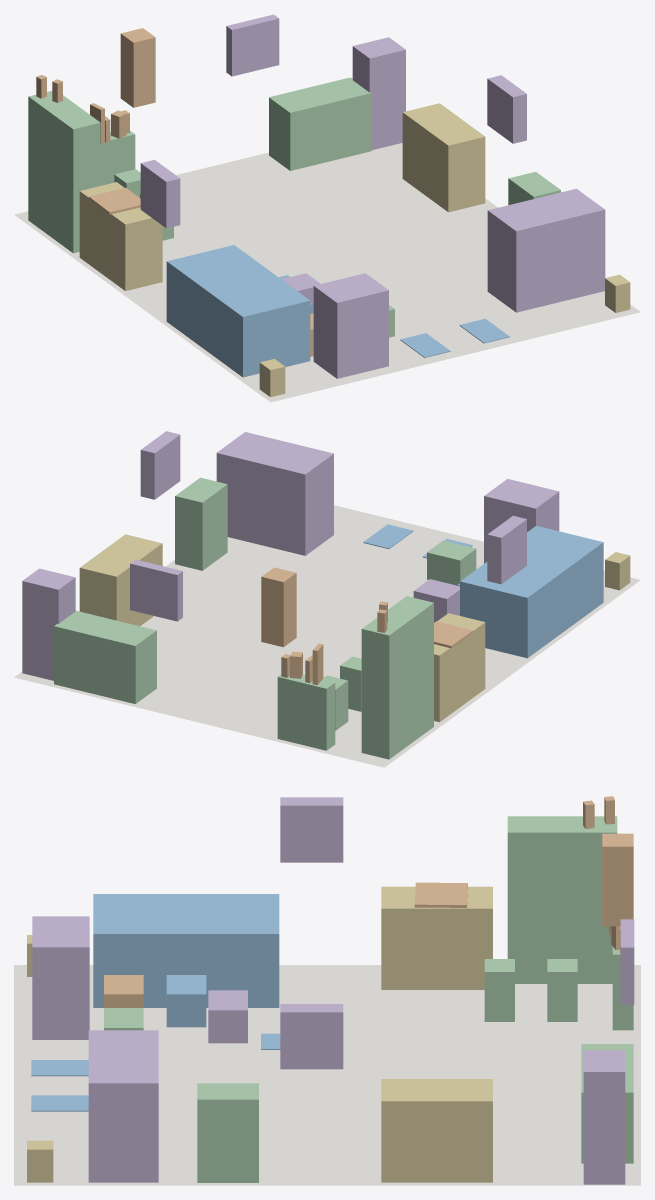
File: layout.glb
3 renders of one model, top to bottom at view 1: azimuth 30°, elevation 25°; view 2: azimuth 150°, elevation 25°; view 3: azimuth 270°, elevation 25°, orthographic. The views are drawn at different scales.
Visible parts, largest first — view 1: room_extent_proxy, obj_0003, obj_0001, obj_0007, obj_0000, obj_0006, obj_0020, obj_0005, obj_0002, obj_0022, obj_0021, obj_0024 (+9 smaller); view 2: room_extent_proxy, obj_0003, obj_0001, obj_0007, obj_0000, obj_0006, obj_0002, obj_0008, obj_0005, obj_0004, obj_0020, obj_0022 (+10 smaller); view 3: room_extent_proxy, obj_0003, obj_0007, obj_0006, obj_0001, obj_0005, obj_0020, obj_0008, obj_0002, obj_0024, obj_0025, obj_0021 (+13 smaller).
Part boxes in pixels (box(x1,y1,x2,y2)): room_extent_proxy: box(14, 143, 640, 402); obj_0003: box(166, 245, 310, 377); obj_0001: box(487, 188, 605, 312); obj_0007: box(28, 91, 100, 253); obj_0000: box(269, 77, 371, 170); obj_0006: box(402, 103, 485, 212); obj_0020: box(313, 273, 388, 378); obj_0005: box(79, 182, 162, 290); obj_0002: box(352, 37, 405, 150); obj_0022: box(226, 14, 279, 76); obj_0021: box(120, 28, 155, 107); obj_0024: box(140, 160, 180, 228); room_extent_proxy: box(14, 505, 640, 767); obj_0003: box(460, 525, 603, 658); obj_0001: box(216, 432, 333, 555); obj_0007: box(361, 596, 433, 759); obj_0000: box(54, 610, 156, 703); obj_0006: box(79, 534, 162, 626); obj_0002: box(22, 568, 75, 680); obj_0008: box(175, 477, 227, 570); obj_0005: box(434, 613, 485, 722); obj_0004: box(277, 674, 335, 750); obj_0020: box(484, 479, 559, 563); obj_0022: box(130, 559, 182, 621); room_extent_proxy: box(14, 965, 640, 1185); obj_0003: box(93, 894, 279, 1007); obj_0007: box(507, 816, 617, 983); obj_0006: box(381, 1079, 492, 1182); obj_0001: box(88, 1030, 158, 1182); obj_0005: box(381, 886, 492, 989); obj_0020: box(32, 916, 89, 1039); obj_0008: box(197, 1083, 258, 1182); obj_0002: box(583, 1050, 625, 1184); obj_0024: box(280, 797, 343, 862); obj_0025: box(280, 1004, 343, 1069); obj_0021: box(602, 833, 633, 926).
Bounding box in the file's own units: 5 × 2.04 × 6.
